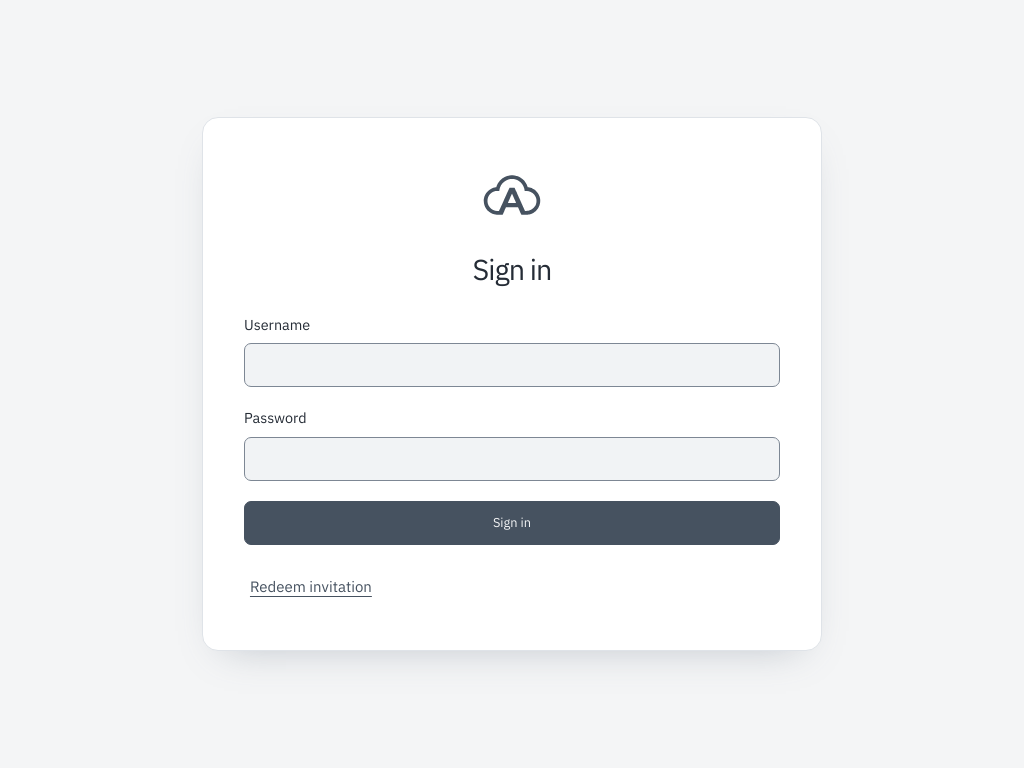
Test: signing in preserves the requested account destination
Check: the heading "Sign in" is shown, box [473,250,551,288]
Type "ark" into the field labelled "Username".
click(512, 365); type("ark")  # box [244,343,780,387]
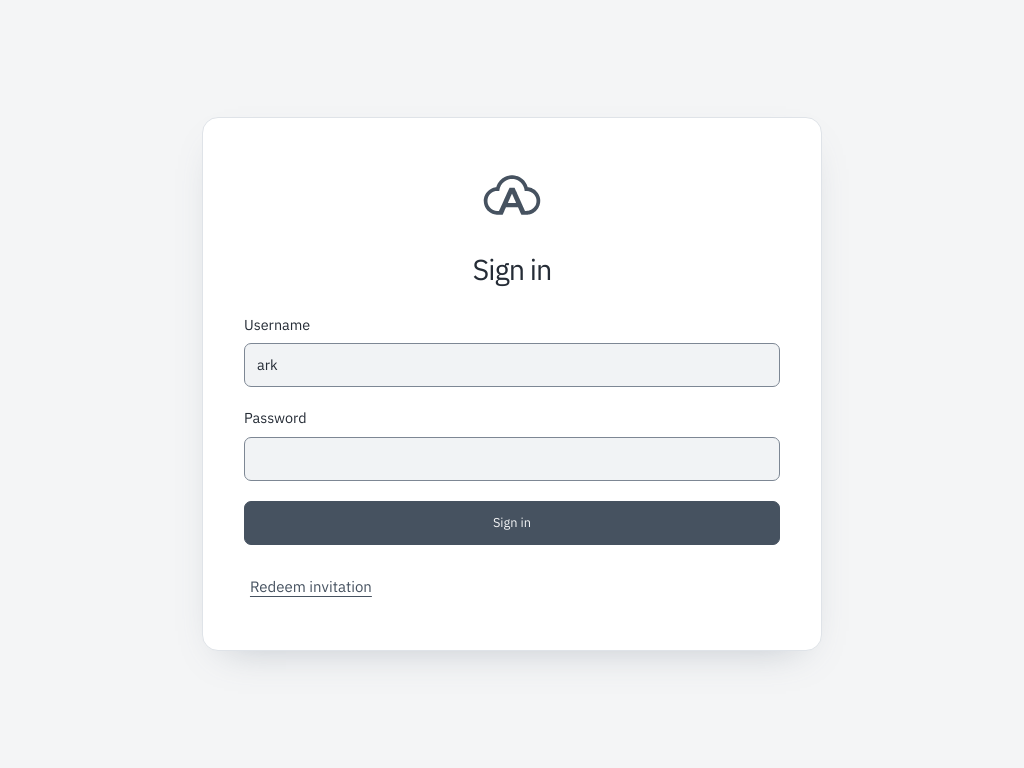
Type "password" into the password field labelled "Password".
click(512, 459); type("password")  # box [244,437,780,481]
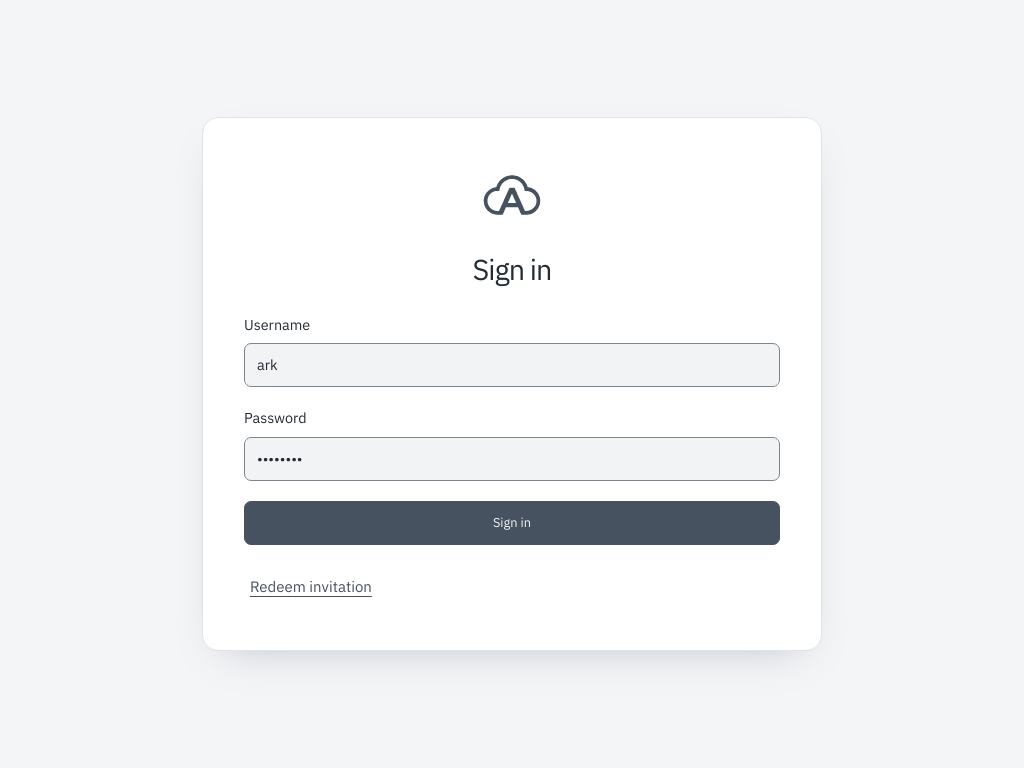
Click the button "Sign in".
click(512, 523)  # box [244,501,780,545]
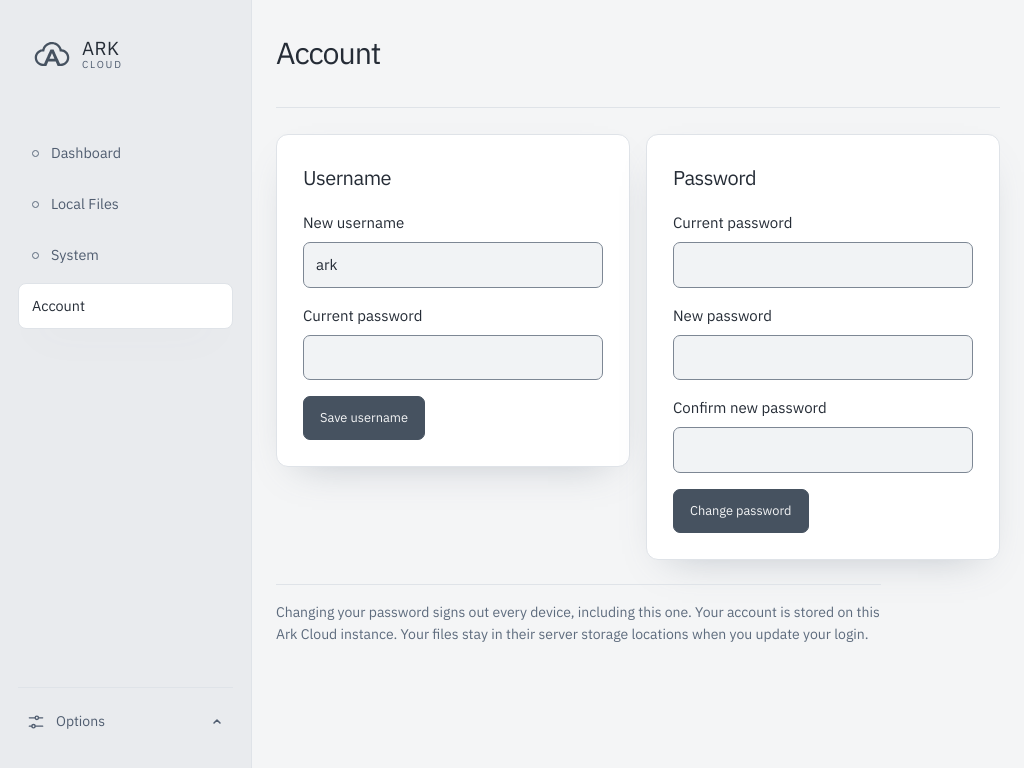
Check: the heading "Account" is shown, box [276,36,380,71]
